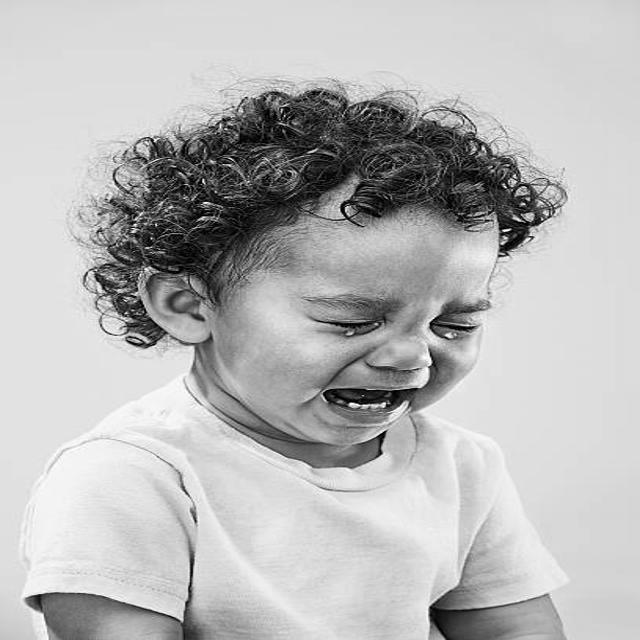Sadness: (210, 192, 503, 450)
